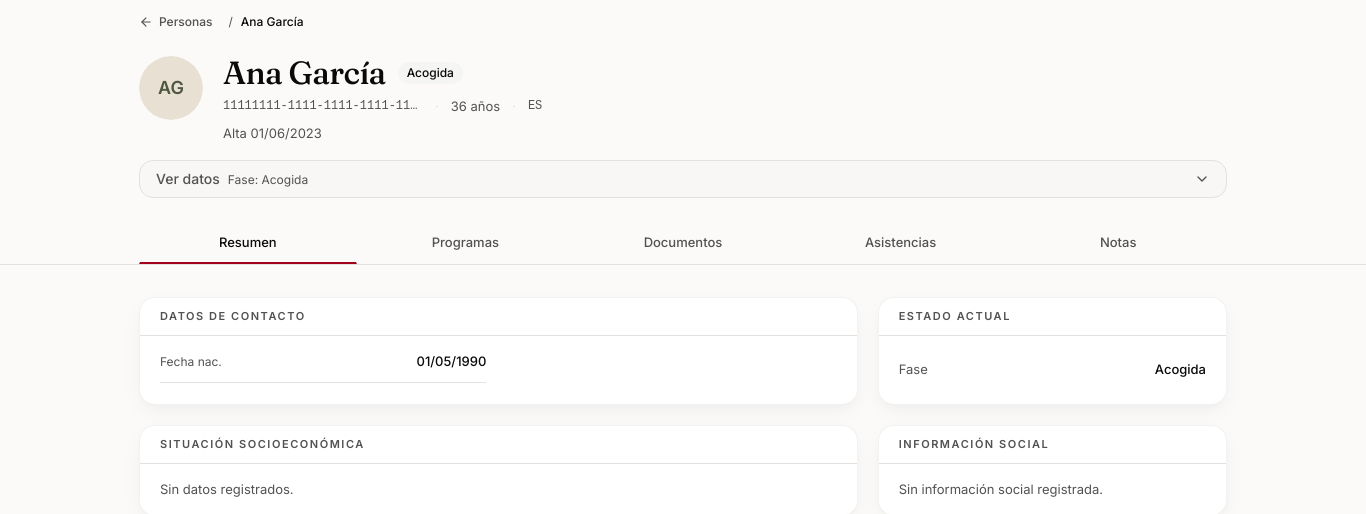
Test case: PersonaDetalle — Asistencias gating › hides the history and shows a gated placeholder for non-admins
This screenshot has width=1366, height=514.
Click the tab "Asistencias".
click(901, 243)  # box [792, 222, 1009, 264]
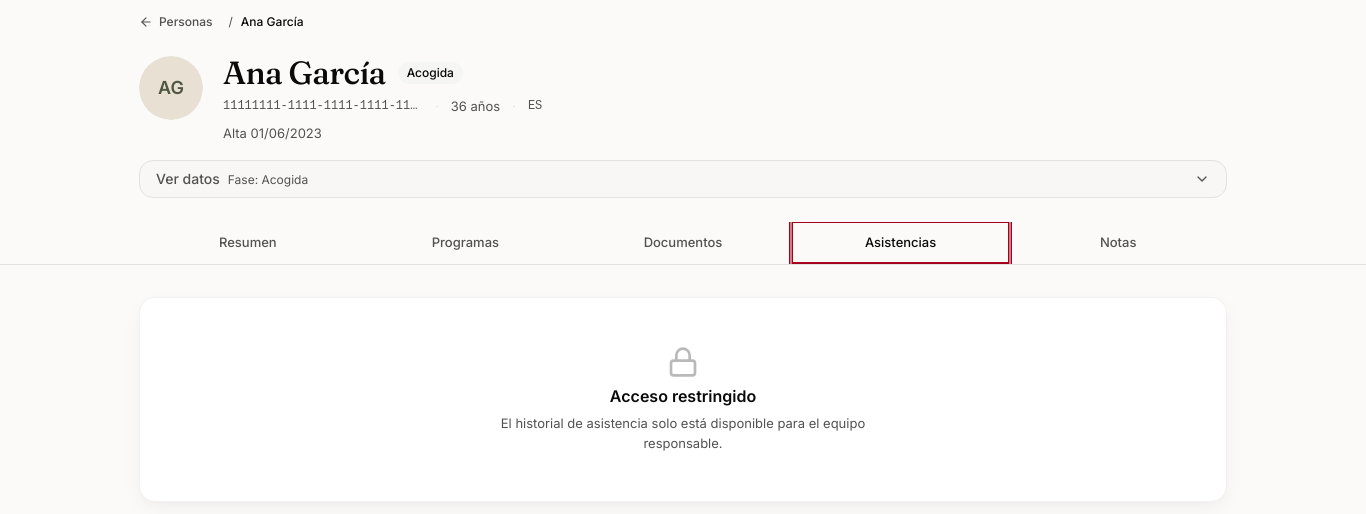
Now the text "Acceso restringido" is shown, box [610, 386, 756, 406]
